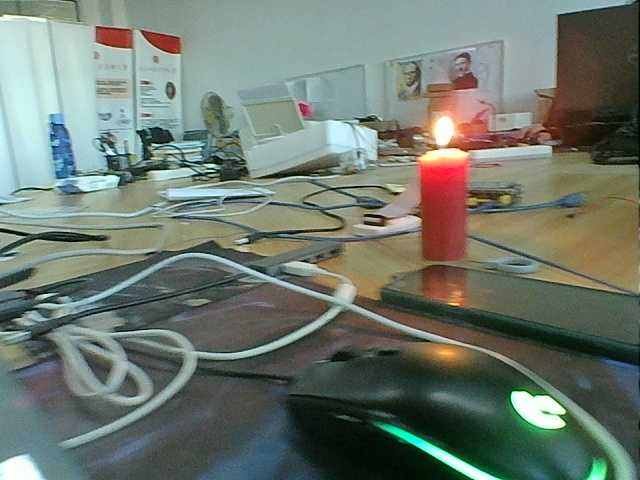candle: (415, 156, 475, 265)
fire: (423, 107, 463, 154)
